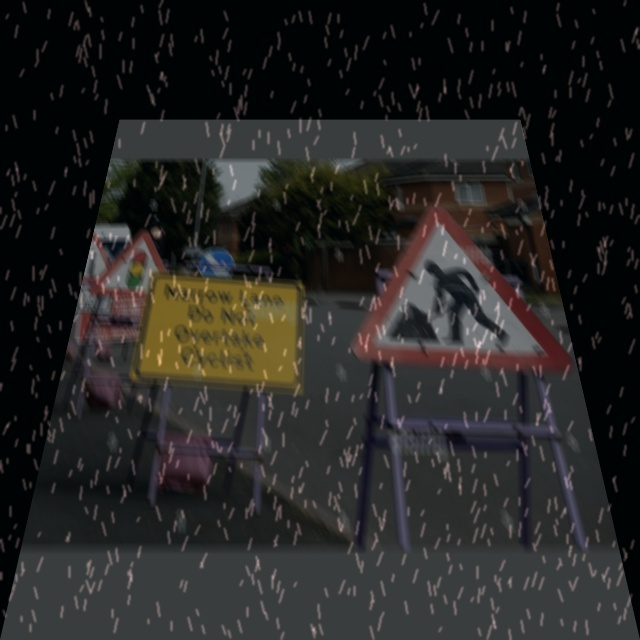Men_at_Work: (347, 194, 573, 375)
